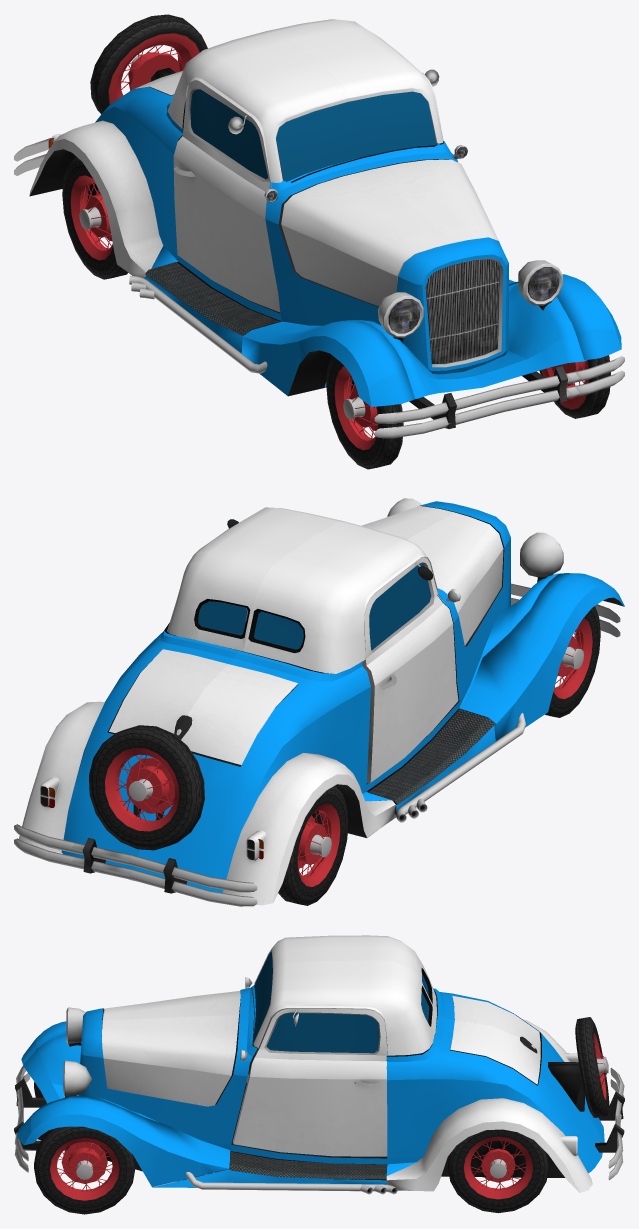
File: Car12.fbx
3 views of the same model, one above another, from view 1: azimuth 30°, elevation 25°; view 2: azimuth 150°, elevation 25°; view 3: azimuth 270°, elevation 25° (orthographic). The views are drawn at different scales.
Visible parts, largest first — view 1: Body, Hood, Roof, Door, wing, wingBack, _Glass_F, BumperF, Tire, OldSchool_2_SidePanel_3_R, Door_Glass_, wing_001 (+12 smaller); view 2: Body, Roof, Trunk, Door, wing, wingBack, Hood, Tire, BumperB, wingBack_001, Metal, OldSchool_2_SidePanel_3_R (+10 smaller); view 3: Body, Door__1_, Roof, Hood, wing_001, wingBack_001, Trunk, Door_Glass__1, Tire_1, Tire_2, Metal_1, OldSchool_2_SidePanel_3_L (+11 smaller).
Boxes of the visible parts, <box> form: Body: <box>88,67,586,398</box>; Hood: <box>281,159,499,306</box>; Roof: <box>167,19,443,182</box>; Door: <box>173,80,280,312</box>; wing: <box>241,320,414,406</box>; wingBack: <box>29,120,177,278</box>; _Glass_F: <box>276,91,436,181</box>; BumperF: <box>374,356,624,438</box>; Tire: <box>90,14,207,114</box>; OldSchool_2_SidePanel_3_R: <box>131,262,279,335</box>; Door_Glass_: <box>190,89,268,179</box>; wing_001: <box>509,274,621,360</box>; Body: <box>61,501,568,892</box>; Roof: <box>167,507,438,673</box>; Trunk: <box>109,649,298,766</box>; Door: <box>362,557,458,783</box>; wing: <box>460,573,624,741</box>; wingBack: <box>222,753,396,905</box>; Hood: <box>361,506,503,645</box>; Tire: <box>89,725,204,850</box>; BumperB: <box>14,824,257,906</box>; wingBack_001: <box>19,701,104,852</box>; Metal: <box>105,748,179,831</box>; OldSchool_2_SidePanel_3_R: <box>368,709,495,818</box>; Body: <box>23,985,604,1187</box>; Door__1_: <box>232,1008,387,1156</box>; Roof: <box>253,935,436,1055</box>; Hood: <box>102,991,240,1106</box>; wing_001: <box>17,1096,230,1186</box>; wingBack_001: <box>386,1098,592,1192</box>; Trunk: <box>450,995,540,1085</box>; Door_Glass__1: <box>266,1013,379,1053</box>; Tire_1: <box>34,1126,135,1214</box>; Tire_2: <box>447,1129,548,1213</box>; Metal_1: <box>50,1138,119,1200</box>; OldSchool_2_SidePanel_3_L: <box>230,1151,386,1194</box>.
Size of the model in its own units: 294 by 254 by 665.
